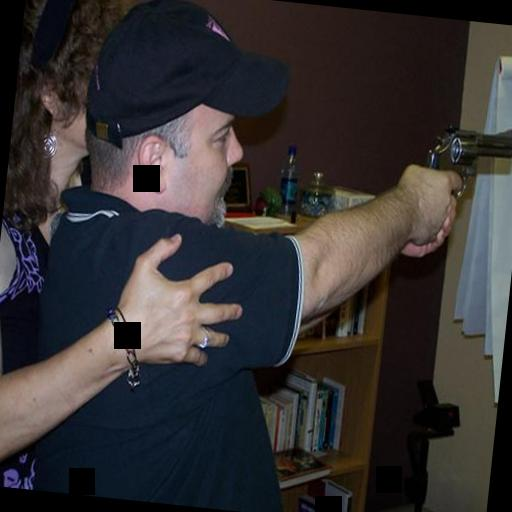Handgun: (418, 118, 512, 202)
